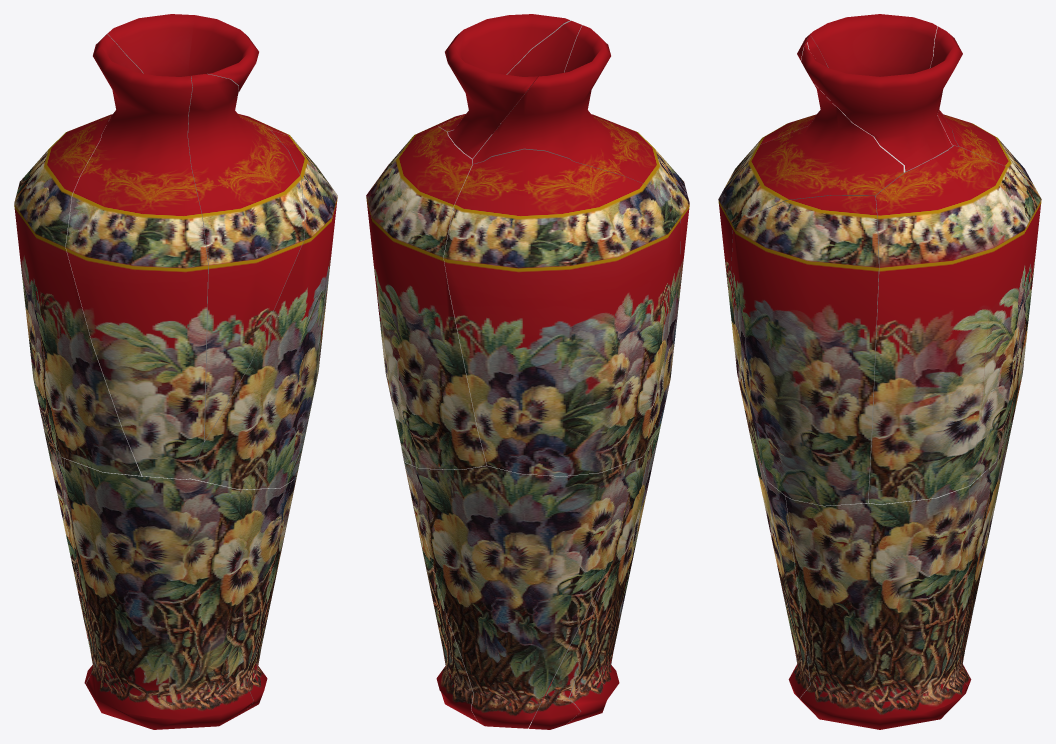
File: JVase_5_cell.fbx
3 renders of one model, left to right at view 1: azimuth 30°, elevation 25°; view 2: azimuth 150°, elevation 25°; view 3: azimuth 270°, elevation 25°, orthographic.
Parts seen in each view (by area): view 1: JVase_5_cell_002, JVase_5_cell_008, JVase_5_cell_006, JVase_5_cell_004, JVase_5_cell_003, JVase_5_cell_001, JVase_5_cell_005, JVase_5_cell_007; view 2: JVase_5_cell_004, JVase_5_cell_007, JVase_5_cell_009, JVase_5_cell_008, JVase_5_cell_001, JVase_5_cell_002, JVase_5_cell_005, JVase_5_cell, JVase_5_cell_006; view 3: JVase_5_cell_009, JVase_5_cell_003, JVase_5_cell_005, JVase_5_cell_006, JVase_5_cell_001, JVase_5_cell_008, JVase_5_cell_002, JVase_5_cell_007, JVase_5_cell_004.
Part boxes in pixels (x1,y1,x2,y2): JVase_5_cell_002: (64, 458, 291, 729); JVase_5_cell_008: (65, 34, 208, 479); JVase_5_cell_006: (187, 74, 304, 440); JVase_5_cell_004: (14, 114, 141, 475); JVase_5_cell_003: (190, 130, 337, 489); JVase_5_cell_001: (105, 14, 258, 97); JVase_5_cell_005: (245, 460, 300, 711); JVase_5_cell_007: (44, 430, 77, 587); JVase_5_cell_004: (443, 149, 680, 476); JVase_5_cell_007: (405, 456, 642, 728); JVase_5_cell_009: (366, 127, 486, 469); JVase_5_cell_008: (472, 25, 689, 291); JVase_5_cell_001: (445, 14, 569, 158); JVase_5_cell_002: (532, 429, 659, 724); JVase_5_cell_005: (401, 448, 478, 722); JVase_5_cell: (529, 589, 598, 729); JVase_5_cell_006: (438, 20, 621, 158); JVase_5_cell_009: (868, 146, 1040, 504); JVase_5_cell_003: (730, 195, 878, 505); JVase_5_cell_005: (785, 486, 969, 729); JVase_5_cell_006: (718, 36, 908, 305); JVase_5_cell_001: (801, 26, 962, 171); JVase_5_cell_008: (730, 14, 958, 177); JVase_5_cell_002: (751, 443, 810, 707); JVase_5_cell_007: (958, 421, 1012, 696); JVase_5_cell_004: (940, 111, 1041, 227).
Bounding box in the file's own units: 26.87 × 59.49 × 26.88.
